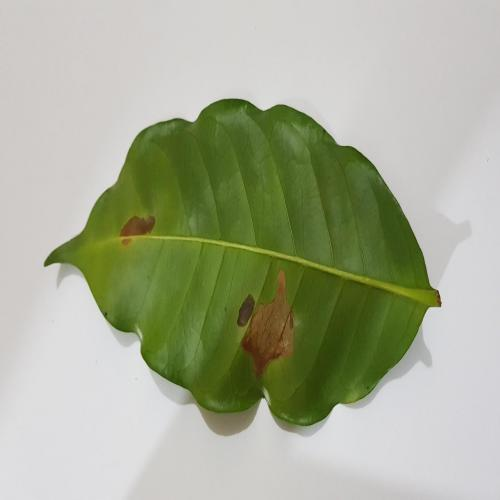leaf: (120, 216, 154, 245)
